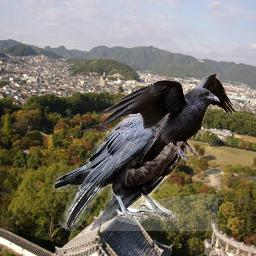Crow: (53, 92, 218, 231), (99, 73, 236, 163)
